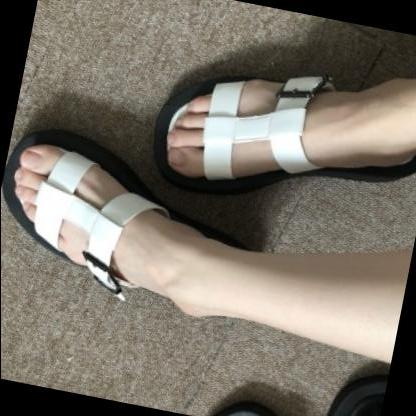no_safety-shoe: (131, 33, 415, 224), (0, 162, 259, 324)
